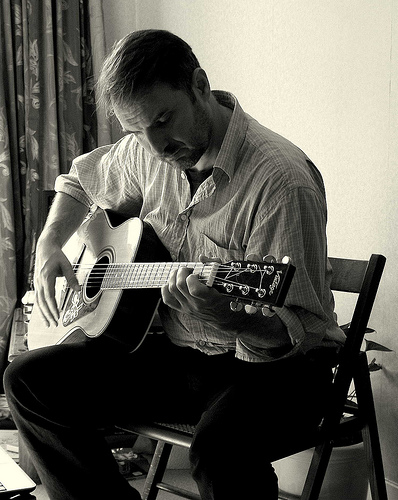guitar: (23, 205, 298, 355)
